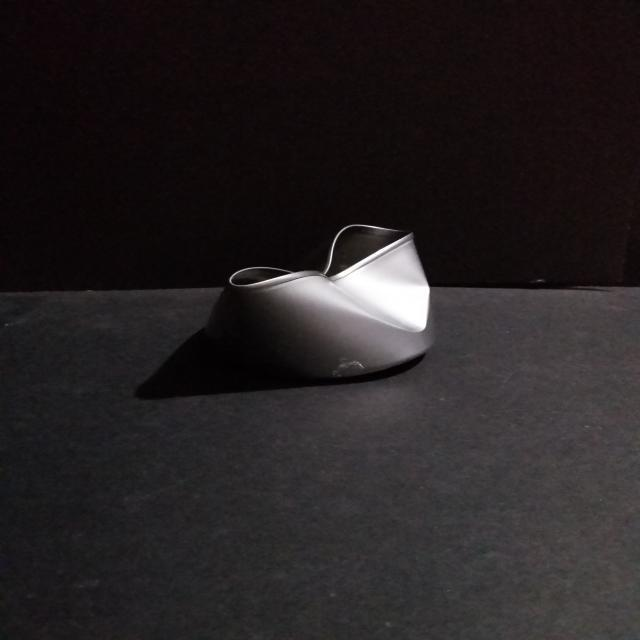metal-can: (226, 222, 437, 386)
